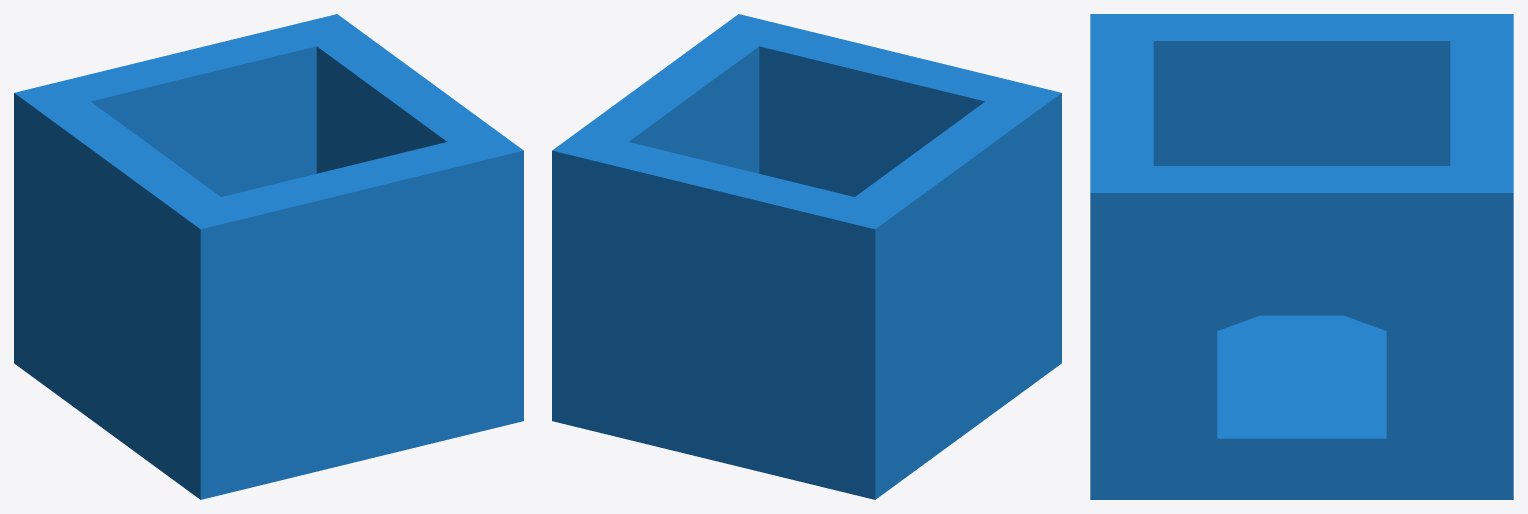
File: Tunnel Box SideRoom.glb
3 views of the same model, side by side, from view 1: azimuth 30°, elevation 25°; view 2: azimuth 150°, elevation 25°; view 3: azimuth 270°, elevation 25° (orthographic). The views are drawn at different scales.
Parts seen in each view (by area): view 1: SideRoom; view 2: SideRoom; view 3: SideRoom.
Part boxes in pixels (<box>): SideRoom: <box>14,14,523,499</box>; SideRoom: <box>552,14,1061,499</box>; SideRoom: <box>1090,14,1513,499</box>.
Bounding box in the file's own units: 10 × 8 × 10.
